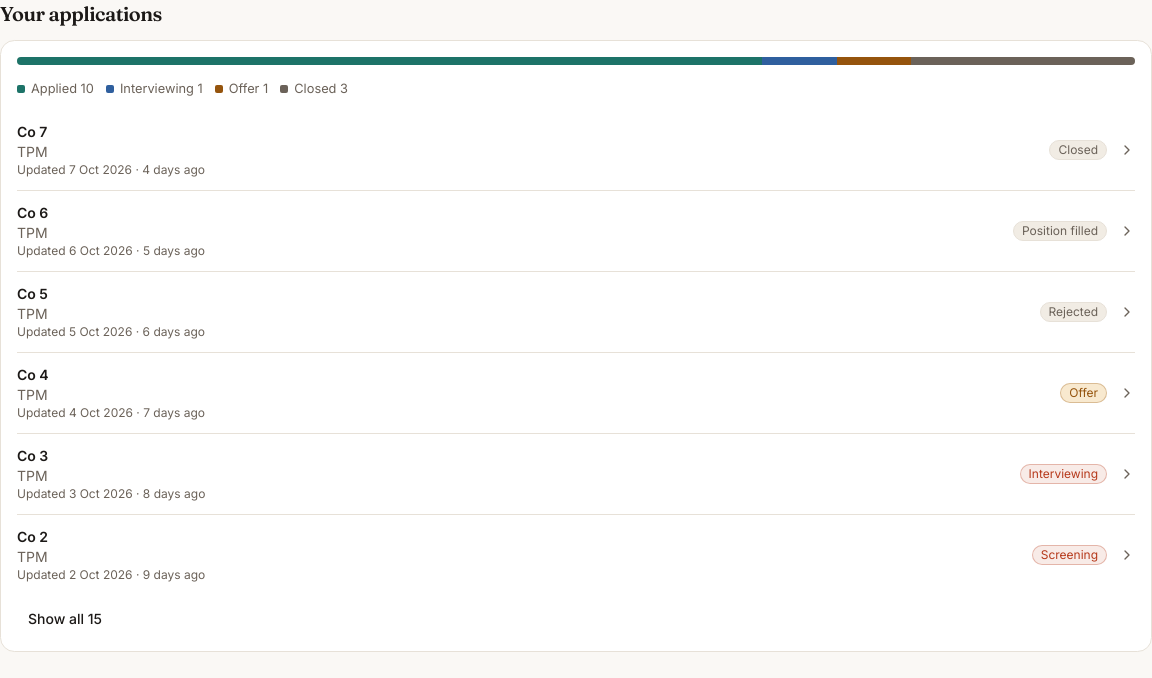
Test: ApplicationsSection › shows six rows and reveals the rest
Click the button "Show all 15": (65, 619) [17,603,113,635]
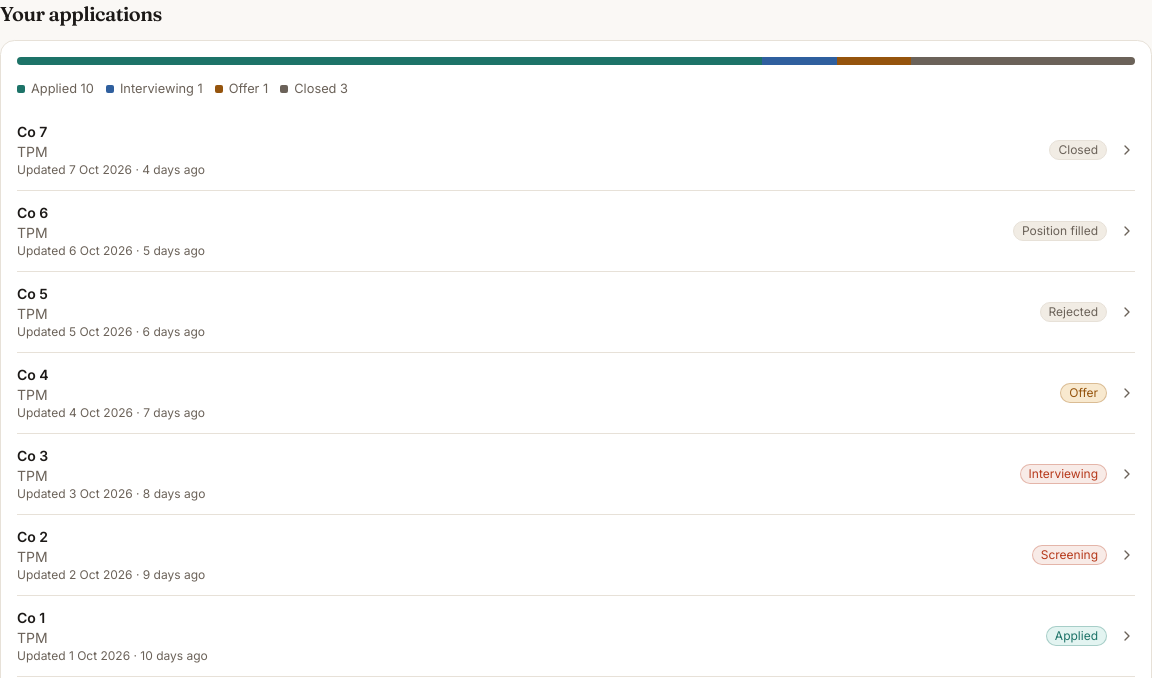
expect the button "Show all 15" is gone: met
